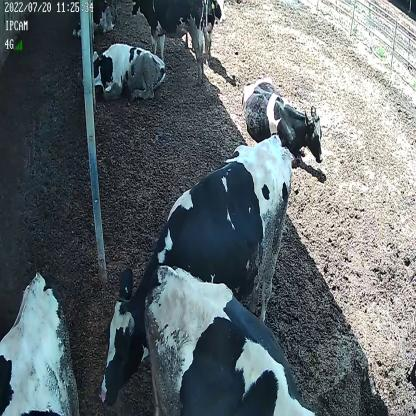cow: (96, 136, 296, 406), (240, 78, 324, 167), (131, 0, 211, 86), (84, 46, 165, 103)
